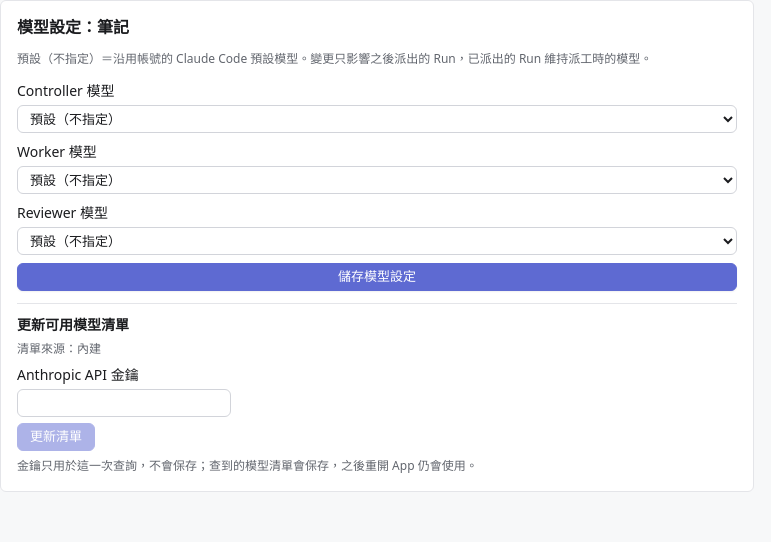
Test: 模型設定 › Runtime 拒絕時顯示它的說明並保留選擇
Select "Sonnet（最新版）（sonnet）" in the dropdown labelled "Worker 模型". click: (377, 180)
box: [17,166,737,194]
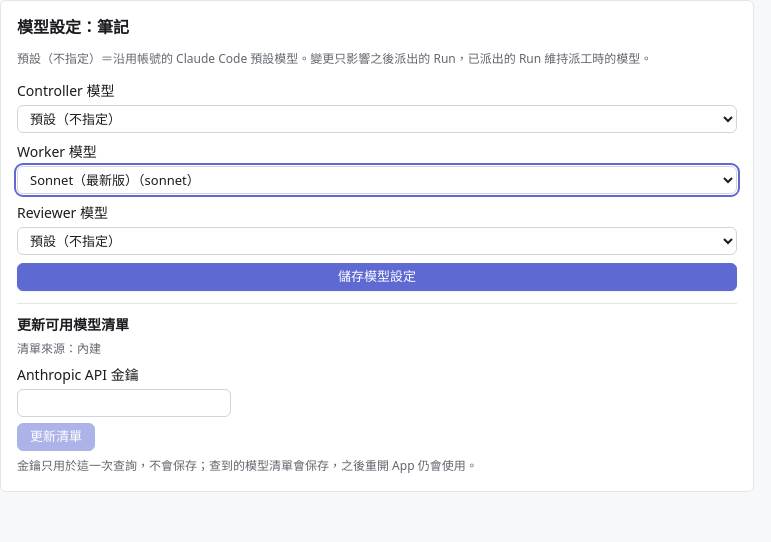
Click the button "儲存模型設定". click: (377, 277)
box: [17,263,737,291]
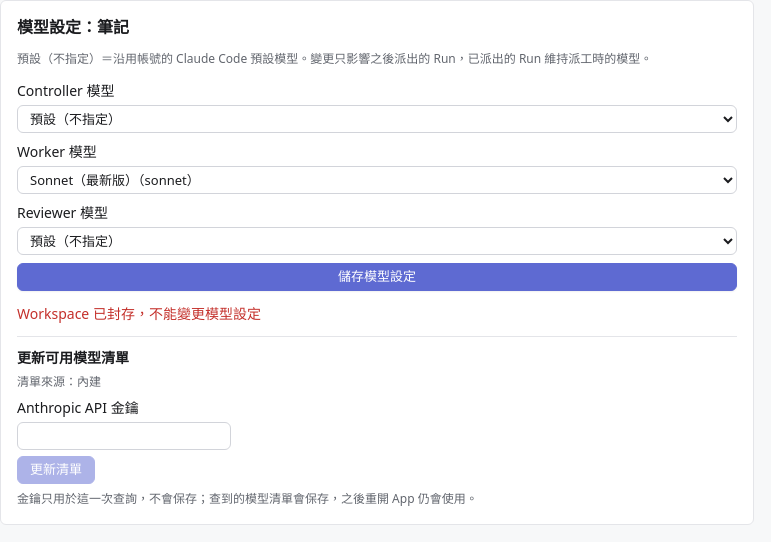
Now the message reads "Workspace 已封存，不能變更模型設定", box [17,304,261,323]
